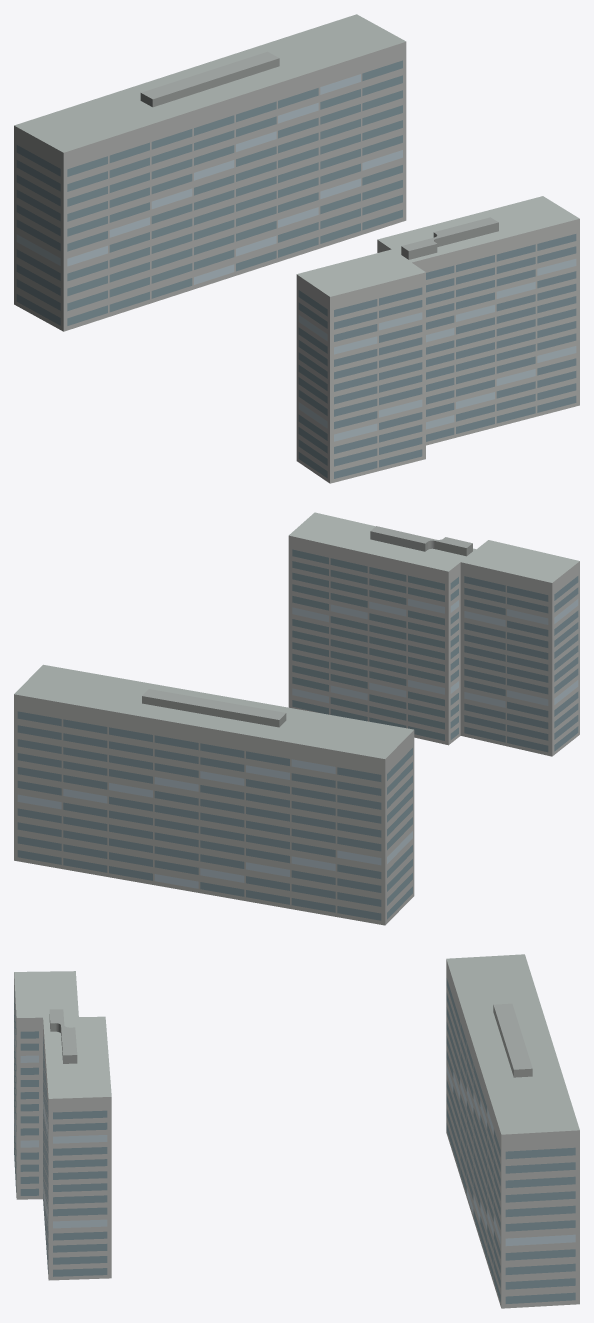
Rendered from apt-a13286002.glb.
The picture shows the model from 3 angles, top to bottom: view 1: azimuth 30°, elevation 25°; view 2: azimuth 150°, elevation 25°; view 3: azimuth 270°, elevation 25°; orthographic projection. The views are drawn at different scales.
Visible parts, largest first — view 1: apt-a13286002; view 2: apt-a13286002; view 3: apt-a13286002.
Part boxes in pixels (left/top/right/bottom): apt-a13286002: left=14, top=14, right=579, bottom=483; apt-a13286002: left=14, top=512, right=579, bottom=925; apt-a13286002: left=14, top=954, right=579, bottom=1308.
Bounding box in the file's own units: 81.41 × 40 × 108.
